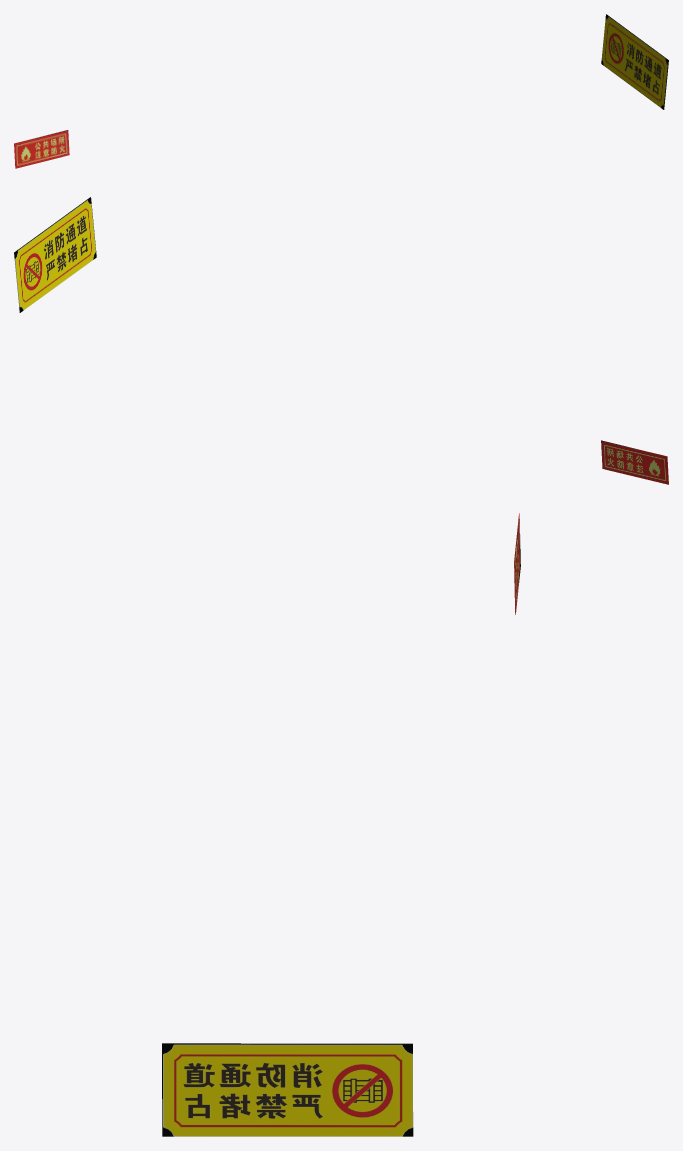
Rendered from Signs_FireHazards.fbx.
3 views of the same model, one above another, from view 1: azimuth 30°, elevation 25°; view 2: azimuth 150°, elevation 25°; view 3: azimuth 270°, elevation 25° (orthographic). The views are drawn at different scales.
Parts seen in each view (by area): view 1: pCube38, pCube39; view 2: pCube38, pCube39; view 3: pCube38.
Part boxes in pixels (x1,y1,x2,y2): pCube38: (601, 14, 668, 109); pCube39: (14, 130, 69, 168); pCube38: (14, 197, 96, 312); pCube39: (601, 440, 668, 484); pCube38: (162, 1043, 413, 1136).
Bounding box in the file's own units: 20.86 × 1.71 × 5.73.
1 material, 1 textured.
